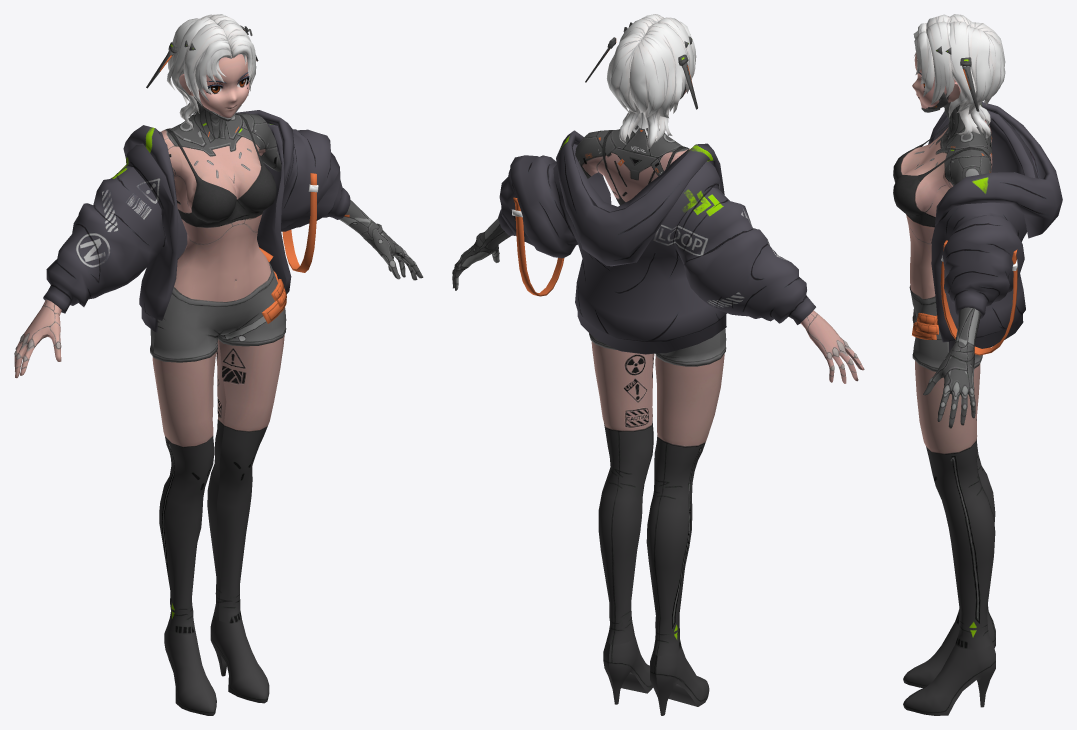
Rendered from anime_girl.glb.
3 renders of one model, left to right at view 1: azimuth 30°, elevation 25°; view 2: azimuth 150°, elevation 25°; view 3: azimuth 270°, elevation 25°, orthographic.
Visible parts, largest first — view 1: Object_3, Object_2; view 2: Object_3, Object_2; view 3: Object_3, Object_2.
Part boxes in pixels (bbox=[...]): Object_3: bbox=[14, 25, 423, 715]; Object_2: bbox=[167, 14, 256, 130]; Object_3: bbox=[452, 22, 864, 715]; Object_2: bbox=[606, 14, 696, 149]; Object_3: bbox=[893, 46, 1062, 715]; Object_2: bbox=[912, 14, 1005, 137].
Bounding box in the file's own units: 1.12 × 1.79 × 0.4066.
Materials: 2 (2 with a texture image).
